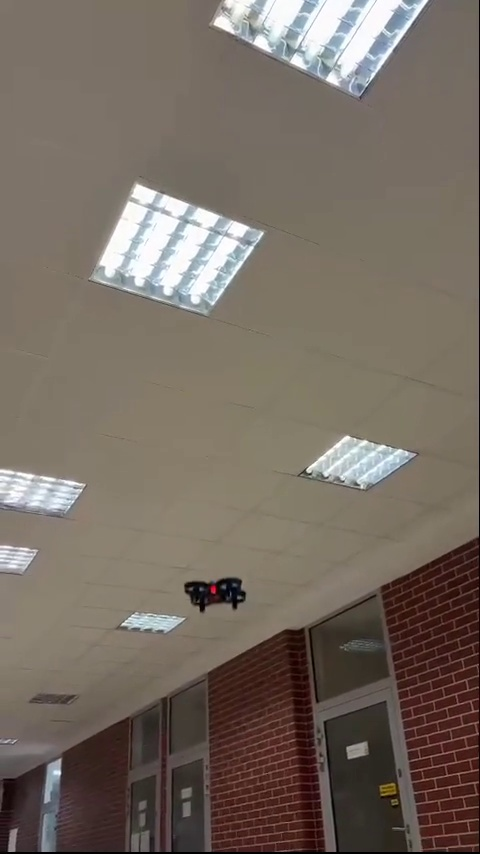drone: (183, 575, 252, 614)
